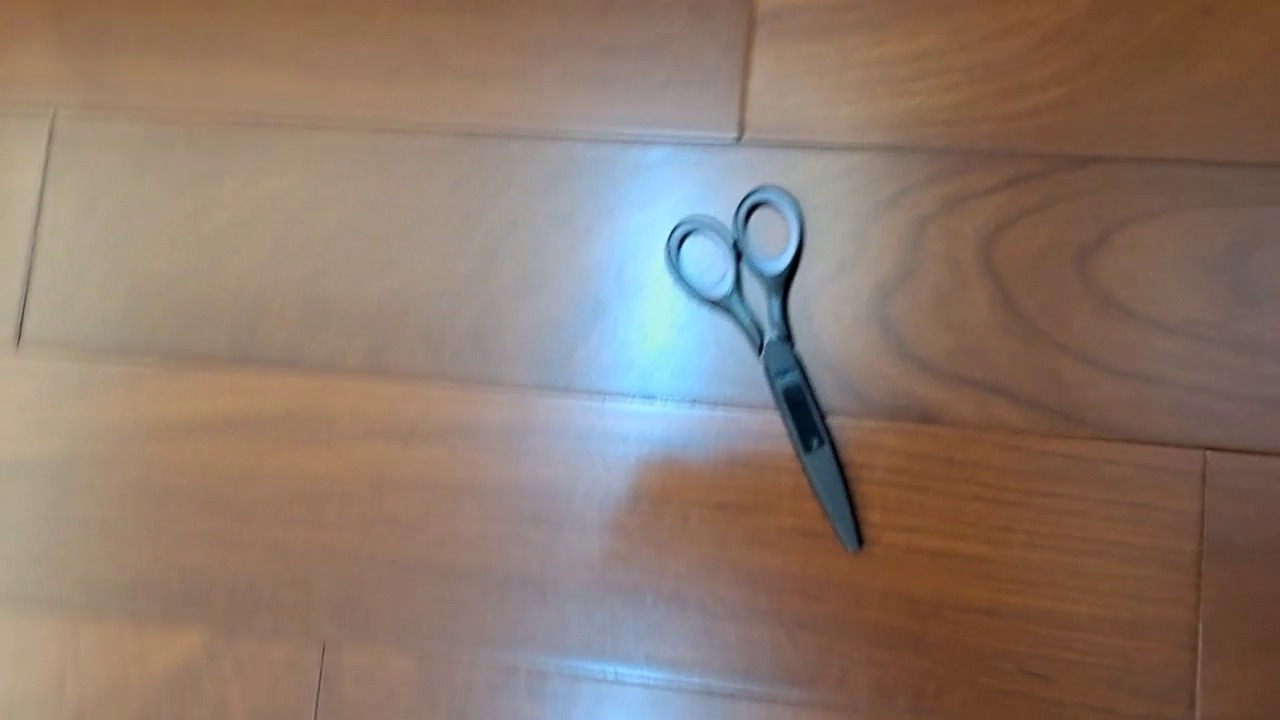scissors: (663, 183, 867, 557)
